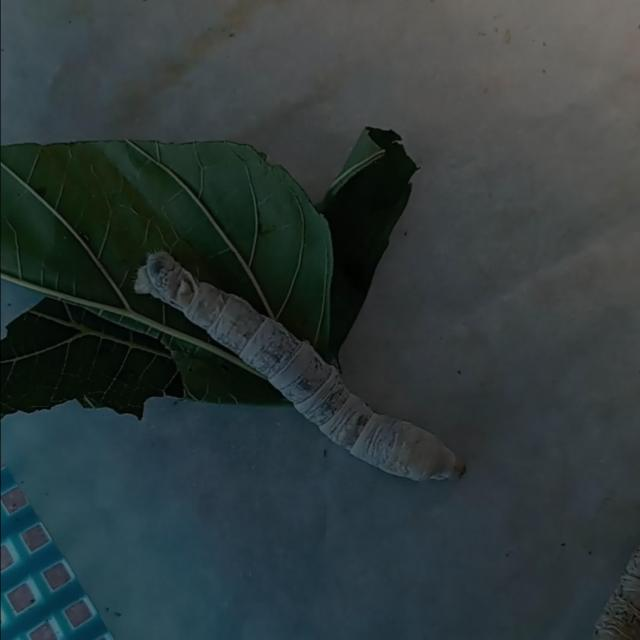Grasserie: (125, 246, 471, 505)
